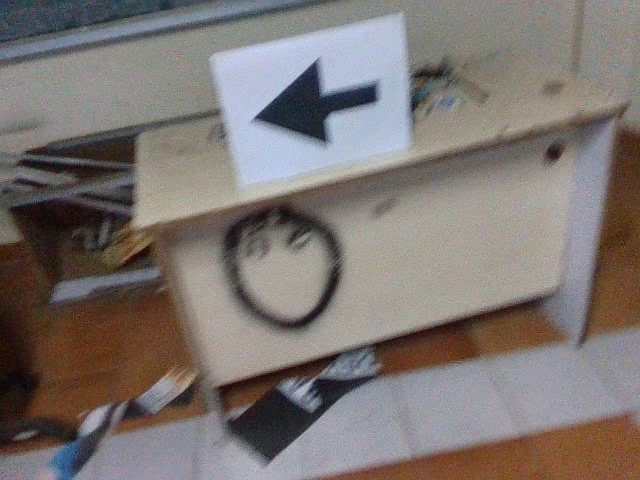Left: (248, 56, 383, 148)
